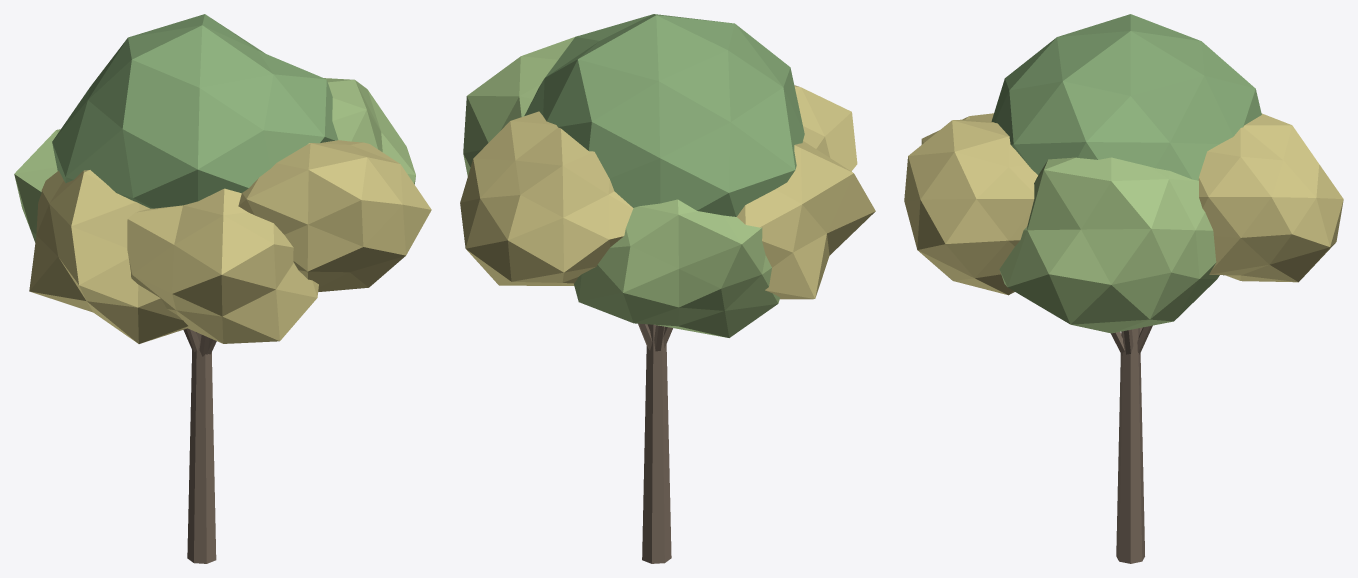
The model's file is node_tree_grassland_3.glb.
3 views of the same model, side by side, from view 1: azimuth 30°, elevation 25°; view 2: azimuth 150°, elevation 25°; view 3: azimuth 270°, elevation 25° (orthographic). The views are drawn at different scales.
Visible parts, largest first — view 1: node_tree_grassland_3; view 2: node_tree_grassland_3; view 3: node_tree_grassland_3.
Boxes of the visible parts, x1,y1,x2,y2 form: node_tree_grassland_3: (14, 14, 431, 563); node_tree_grassland_3: (460, 14, 875, 563); node_tree_grassland_3: (904, 14, 1343, 563).
Size of the model in its own units: 5.61 by 7.84 by 5.93.
